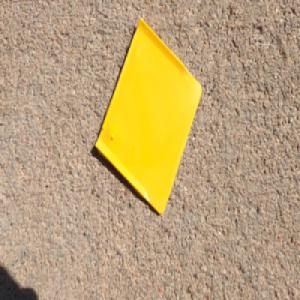PlasticPart: (94, 14, 203, 216)
